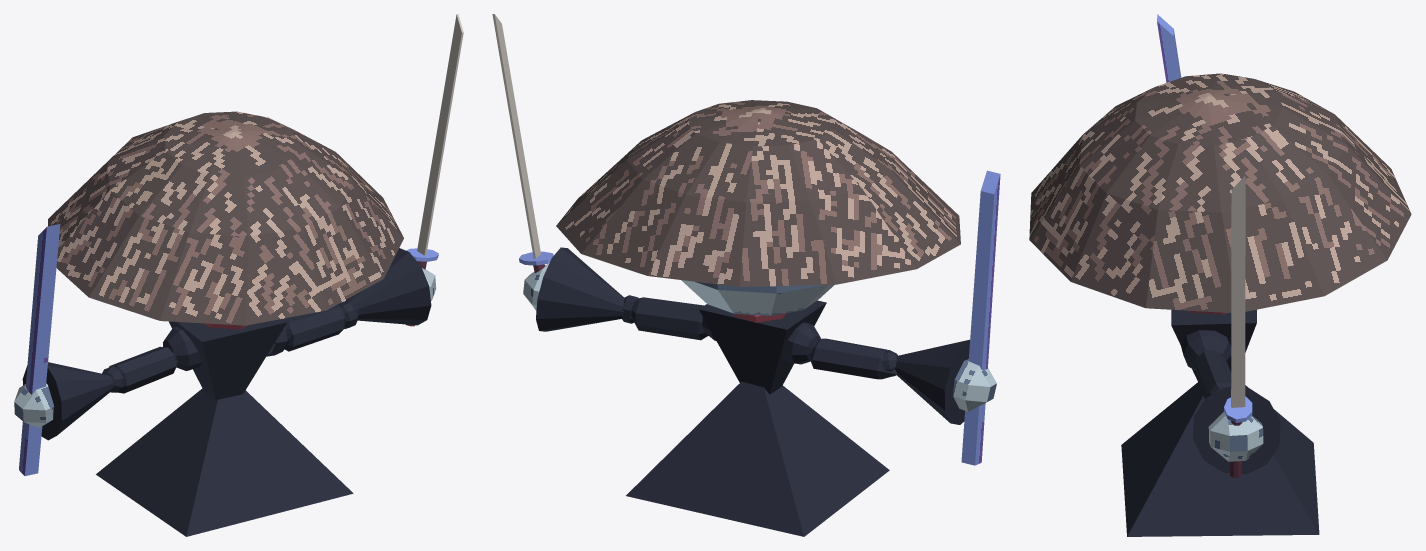
File: SwordBot_TPose.gltf
3 renders of one model, left to right at view 1: azimuth 30°, elevation 25°; view 2: azimuth 150°, elevation 25°; view 3: azimuth 270°, elevation 25°, orthographic. The views are drawn at different scales.
Parts seen in each view (by area): view 1: BambooHat, Legs, LowerArm (×2), Torso, Sheath, UpperArm (×2), Blade, Hand, Sholder; view 2: BambooHat, Legs, LowerArm (×2), Torso, Sheath, UpperArm (×2), Head, Blade, Hand, Sholder; view 3: BambooHat, Legs, Blade, LowerArm, Hand, Torso, UpperArm, Sholder, Sheath, cylinder.
Boxes of the visible parts, x1,y1,x2,y2 form: BambooHat: (48, 111, 403, 325); Legs: (96, 388, 353, 536); LowerArm (×2): (22, 248, 431, 440); Torso: (168, 318, 286, 401); Sheath: (19, 224, 60, 475); UpperArm (×2): (109, 304, 345, 393); Blade: (417, 14, 463, 255); Hand: (14, 383, 54, 427); Sholder: (163, 327, 202, 370); BambooHat: (556, 100, 960, 286); Legs: (626, 381, 889, 536); LowerArm (×2): (536, 247, 969, 424); Torso: (699, 300, 826, 394); Sheath: (961, 170, 1000, 465); UpperArm (×2): (631, 297, 897, 379); Head: (681, 280, 834, 315); Blade: (492, 14, 540, 258); Hand: (953, 359, 996, 411); Sholder: (782, 322, 820, 364); BambooHat: (1029, 73, 1411, 312); Legs: (1121, 382, 1319, 536); Blade: (1231, 175, 1245, 407); LowerArm: (1193, 387, 1280, 474); Hand: (1208, 411, 1263, 461); Torso: (1171, 309, 1256, 382); UpperArm: (1195, 350, 1231, 398); Sholder: (1181, 330, 1231, 370); Sheath: (1157, 14, 1181, 82); cylinder: (1224, 396, 1252, 422).
Bounding box in the file's own units: 3.2 × 2.65 × 2.06.
2 materials, 2 textured.
